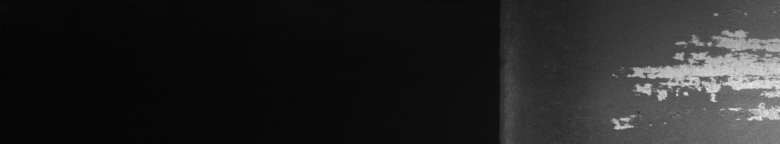kb: (611, 13, 775, 132)
